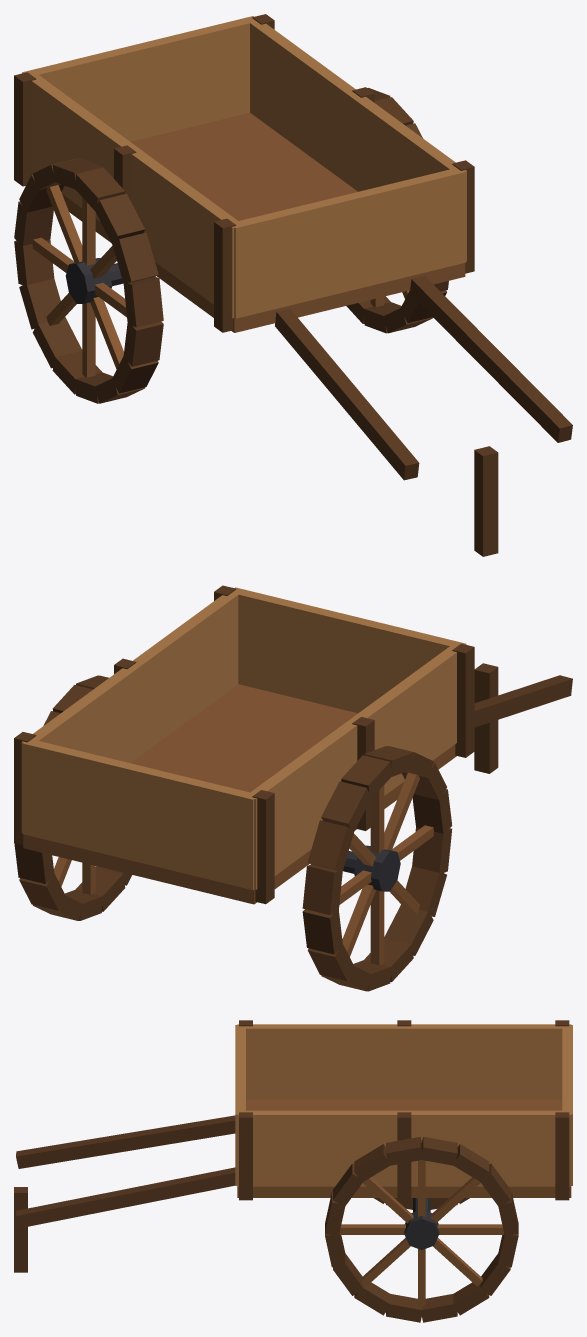
File: Cart.fbx
3 views of the same model, one above another, from view 1: azimuth 30°, elevation 25°; view 2: azimuth 150°, elevation 25°; view 3: azimuth 270°, elevation 25° (orthographic). The views are drawn at different scales.
Visible parts, largest first — view 1: Cart; view 2: Cart; view 3: Cart.
Boxes of the visible parts, x1,y1,x2,y2 form: Cart: [14, 14, 572, 556]; Cart: [14, 585, 572, 991]; Cart: [14, 1020, 572, 1322].
Size of the model in its own units: 1.64 by 1.26 by 3.18.
